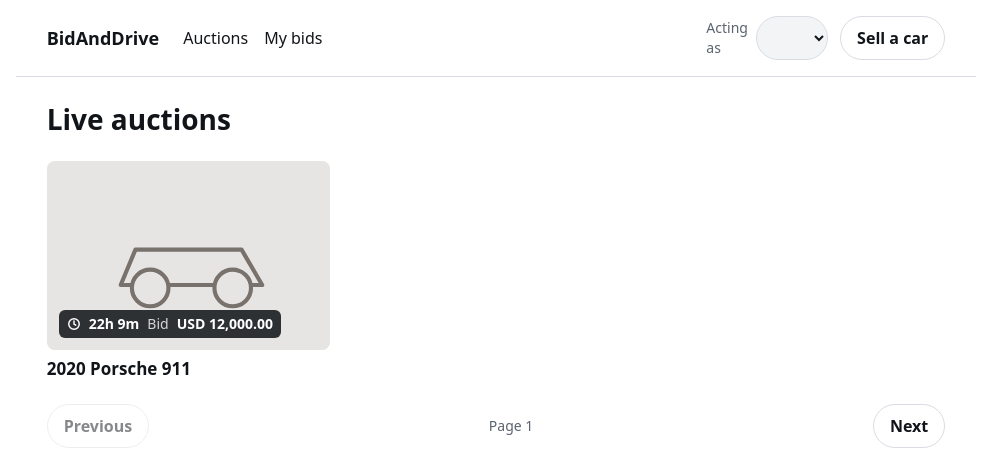
Test: AuctionsView › enables Next when the API gives a next link and loads the next page
The image size is (993, 465).
Expected: the button "Previous" is disabled, [47,404,149,448]
Click the button "Next" at (909, 426), box [873,404,945,448]
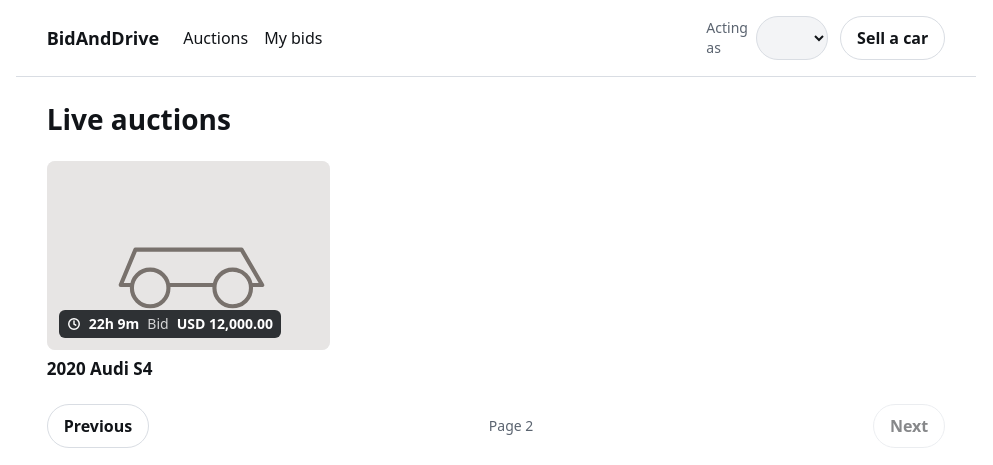
Now the heading "2020 Audi S4" is shown, box [47,357,152,380]
Now the button "Previous" is enabled, box [47,404,149,448]
